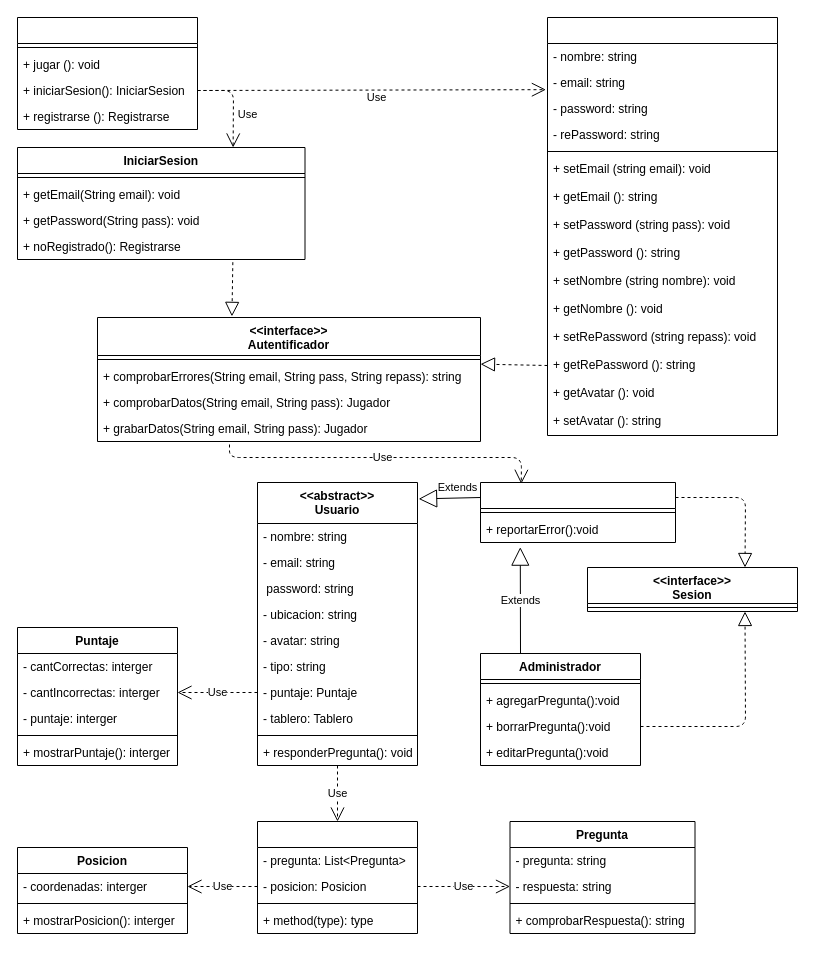
Image size: 815x954. Some labels were removed from this diagram. Each missing label, with the box of its shape:
Juego: (16, 16, 198, 130)
Jugador: (480, 482, 676, 542)
Registrarse: (546, 16, 778, 436)
Tablero: (256, 820, 418, 934)
